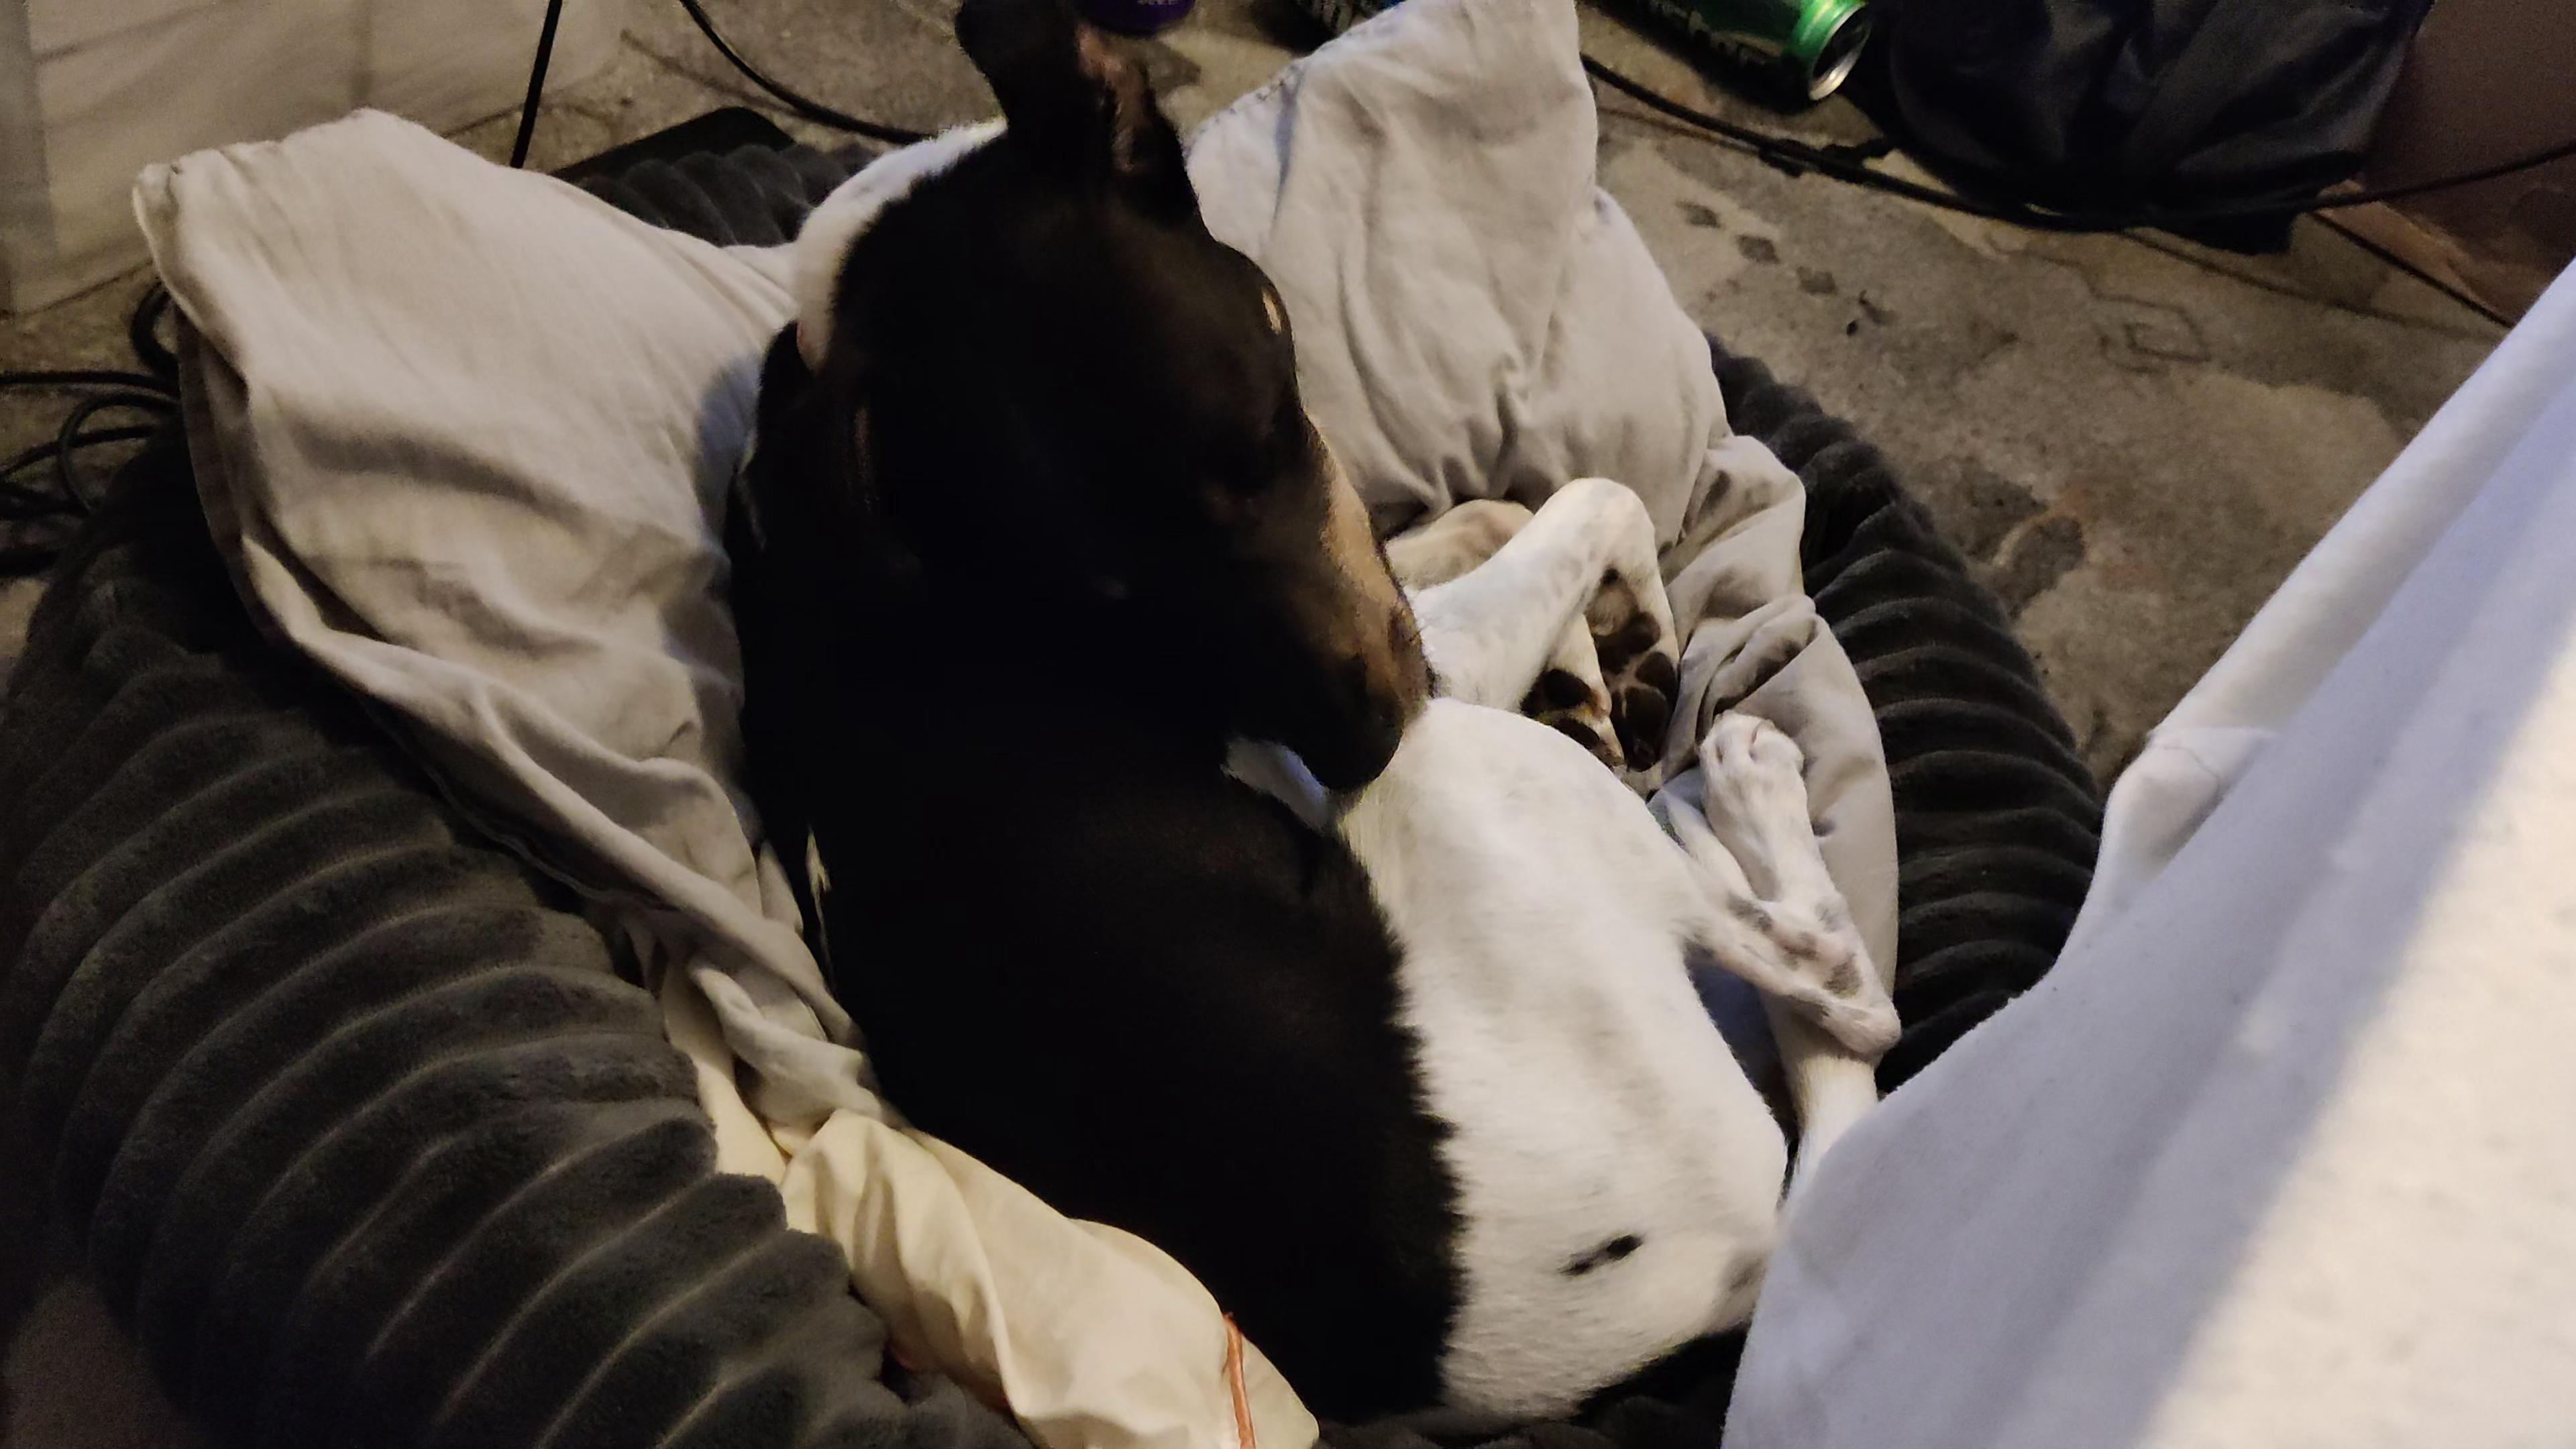Dog: (683, 0, 1923, 1426)
